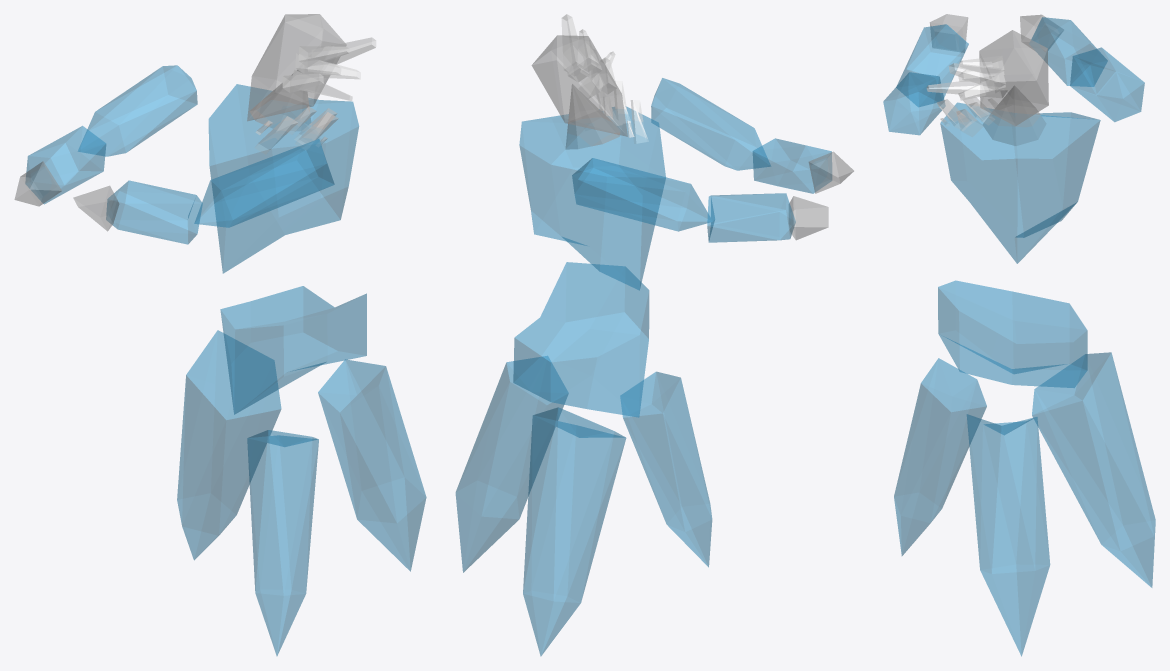
Rendered from ghostDistanceAttack1.obj.
3 renders of one model, left to right at view 1: azimuth 30°, elevation 25°; view 2: azimuth 150°, elevation 25°; view 3: azimuth 270°, elevation 25°, orthographic. The views are drawn at different scales.
Visible parts, largest first — view 1: Cube.001_Cube.007, Icosphere.020, Icosphere.019, Cube_Cube.007, Icosphere.018, Icosphere.005_Icosphere.007, Icosphere.003_Icosphere.007, Icosphere.007_Icosphere.006, Icosphere.006_Icosphere.006, Icosphere.008_Icosphere.006, Cone_Cone.007, Cube.003_Cube.007 (+6 smaller); view 2: Cube.001_Cube.007, Cube_Cube.007, Icosphere.020, Icosphere.019, Icosphere.018, Icosphere.007_Icosphere.006, Icosphere.003_Icosphere.007, Icosphere.005_Icosphere.007, Icosphere.008_Icosphere.006, Icosphere.006_Icosphere.006, Cone_Cone.007, Cube.003_Cube.007 (+3 smaller); view 3: Cube.001_Cube.007, Icosphere.020, Icosphere.019, Cube_Cube.007, Icosphere.018, Icosphere.003_Icosphere.007, Icosphere.007_Icosphere.006, Icosphere.006_Icosphere.006, Icosphere.008_Icosphere.006, Icosphere.005_Icosphere.007, Cone_Cone.007, Cube.002_Cube.007 (+6 smaller).
Boxes of the visible parts, x1,y1,x2,y2 form: Cube.001_Cube.007: (208,84,358,273); Icosphere.020: (177,330,281,560); Icosphere.019: (318,359,426,571); Cube_Cube.007: (220,286,366,414); Icosphere.018: (247,430,318,655); Icosphere.005_Icosphere.007: (194,139,334,227); Icosphere.003_Icosphere.007: (247,14,346,121); Icosphere.007_Icosphere.006: (78,65,197,156); Icosphere.006_Icosphere.006: (106,180,202,244); Icosphere.008_Icosphere.006: (25,126,106,204); Cone_Cone.007: (250,70,310,130); Cube.003_Cube.007: (14,161,61,206); Cube.001_Cube.007: (519,106,665,290); Cube_Cube.007: (513,262,649,417); Icosphere.020: (523,407,626,656); Icosphere.019: (455,356,568,572); Icosphere.018: (620,371,712,567); Icosphere.007_Icosphere.006: (572,158,712,231); Icosphere.003_Icosphere.007: (531,35,627,136); Icosphere.005_Icosphere.007: (651,78,770,170); Icosphere.008_Icosphere.006: (707,193,795,242); Icosphere.006_Icosphere.006: (752,138,831,193); Cone_Cone.007: (566,84,619,149); Cube.003_Cube.007: (789,196,828,240); Cube.001_Cube.007: (940,102,1100,263); Icosphere.020: (1032,352,1155,587); Icosphere.019: (966,414,1050,656); Cube_Cube.007: (938,280,1087,387); Icosphere.018: (894,358,986,555); Icosphere.003_Icosphere.007: (979,30,1048,125); Icosphere.007_Icosphere.006: (1070,47,1144,121); Icosphere.006_Icosphere.006: (896,24,968,106); Icosphere.008_Icosphere.006: (1029,17,1107,86); Icosphere.005_Icosphere.007: (883,72,945,135); Cone_Cone.007: (983,85,1046,145); Cube.002_Cube.007: (930,14,968,52).
Bounding box in the file's own units: 33.04 × 47.44 × 20.66.
